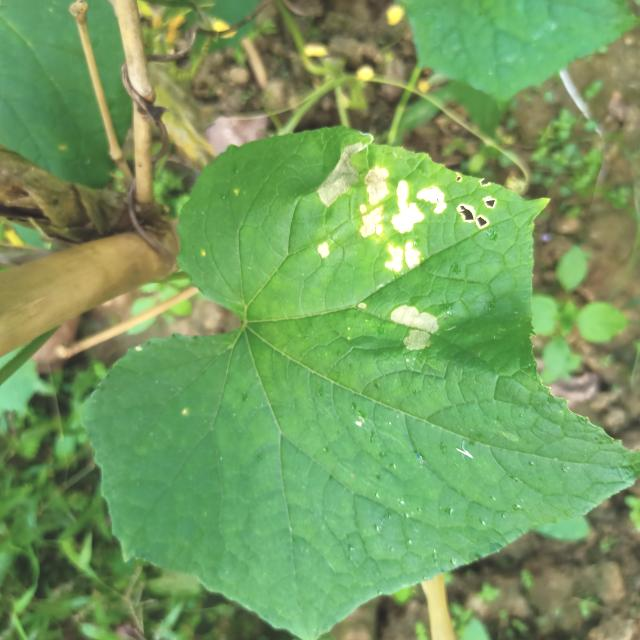disease_cucumber: (304, 132, 495, 282), (384, 299, 448, 353)
